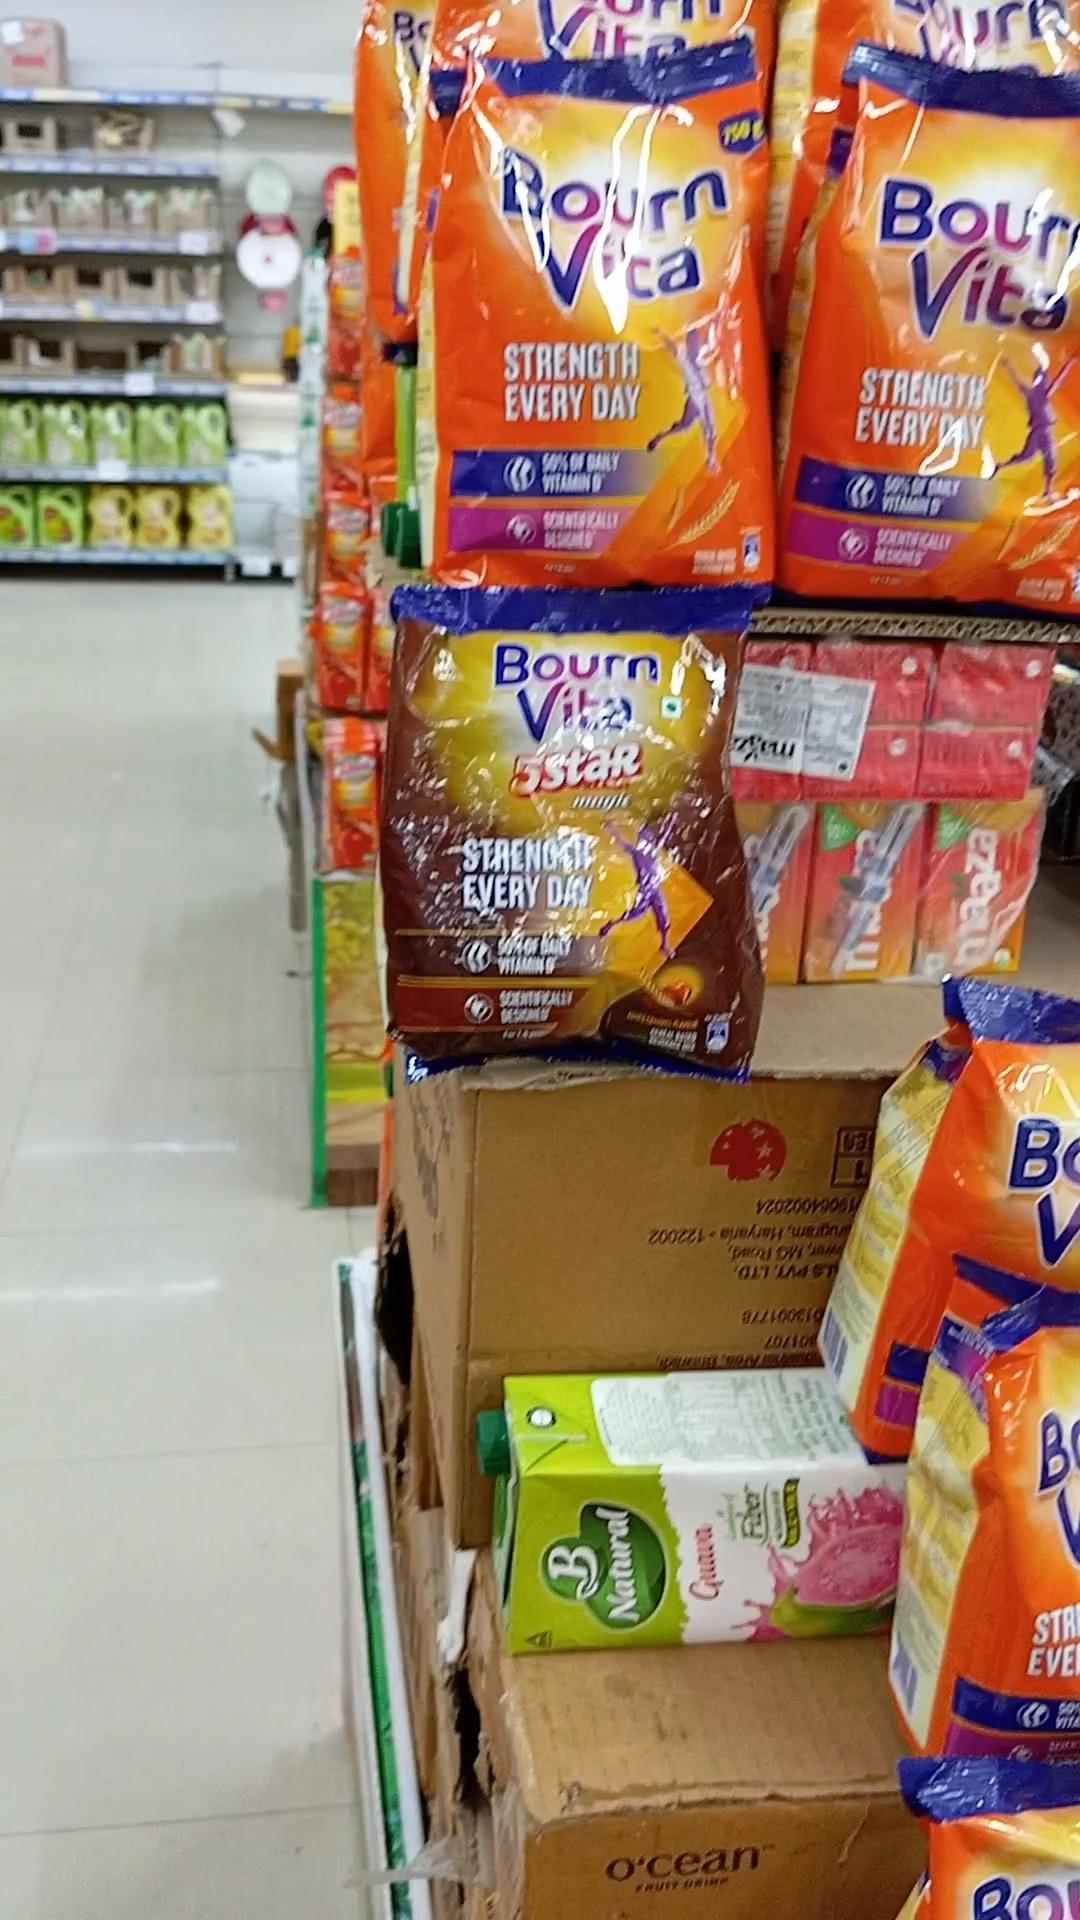BOURN_VITA_FIVE_STAR_MAGIC_500_G_POUCH: (390, 574, 762, 1072)
